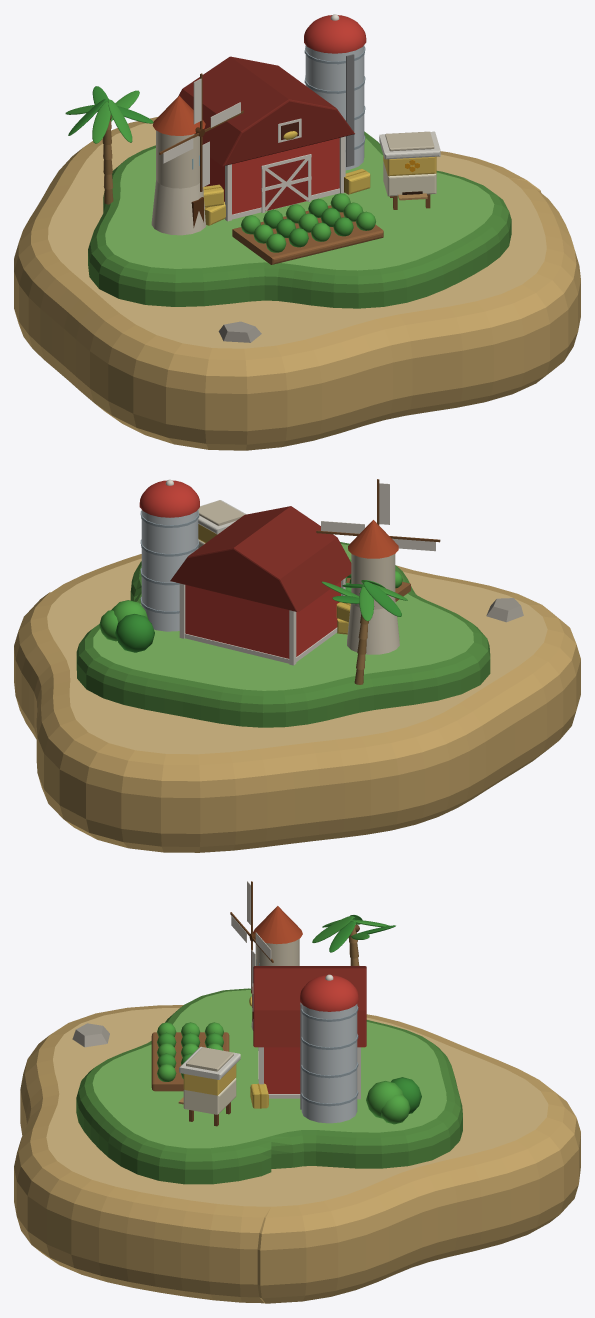
The model's file is farm.glb.
3 views of the same model, one above another, from view 1: azimuth 30°, elevation 25°; view 2: azimuth 150°, elevation 25°; view 3: azimuth 270°, elevation 25° (orthographic). The views are drawn at different scales.
Parts seen in each view (by area): view 1: part_000, part_002, part_008, part_003, part_005, part_007, part_009, part_006, part_011; view 2: part_000, part_002, part_003, part_005, part_009, part_010, part_006, part_007, part_011; view 3: part_000, part_002, part_003, part_007, part_008, part_005, part_010, part_009, part_006, part_011.
Boxes of the visible parts, x1,y1,x2,y2 form: part_000: [14, 117, 580, 450]; part_002: [178, 56, 370, 225]; part_008: [232, 193, 383, 264]; part_003: [304, 14, 366, 170]; part_005: [151, 95, 206, 235]; part_007: [379, 131, 440, 209]; part_009: [65, 86, 153, 204]; part_006: [159, 73, 243, 191]; part_011: [218, 321, 261, 342]; part_000: [14, 542, 580, 852]; part_002: [170, 506, 351, 665]; part_003: [139, 479, 199, 631]; part_005: [347, 520, 399, 654]; part_009: [321, 580, 407, 684]; part_010: [99, 600, 154, 652]; part_006: [316, 479, 440, 551]; part_007: [198, 500, 246, 548]; part_011: [486, 598, 523, 622]; part_000: [14, 988, 580, 1303]; part_002: [249, 966, 366, 1108]; part_003: [300, 974, 358, 1123]; part_007: [178, 1046, 240, 1126]; part_008: [151, 1022, 229, 1091]; part_005: [251, 906, 302, 1030]; part_010: [366, 1077, 421, 1124]; part_009: [312, 915, 395, 965]; part_006: [230, 881, 273, 993]; part_011: [72, 1023, 109, 1047].
Size of the model in its own units: 8.32 by 4.65 by 8.78.
